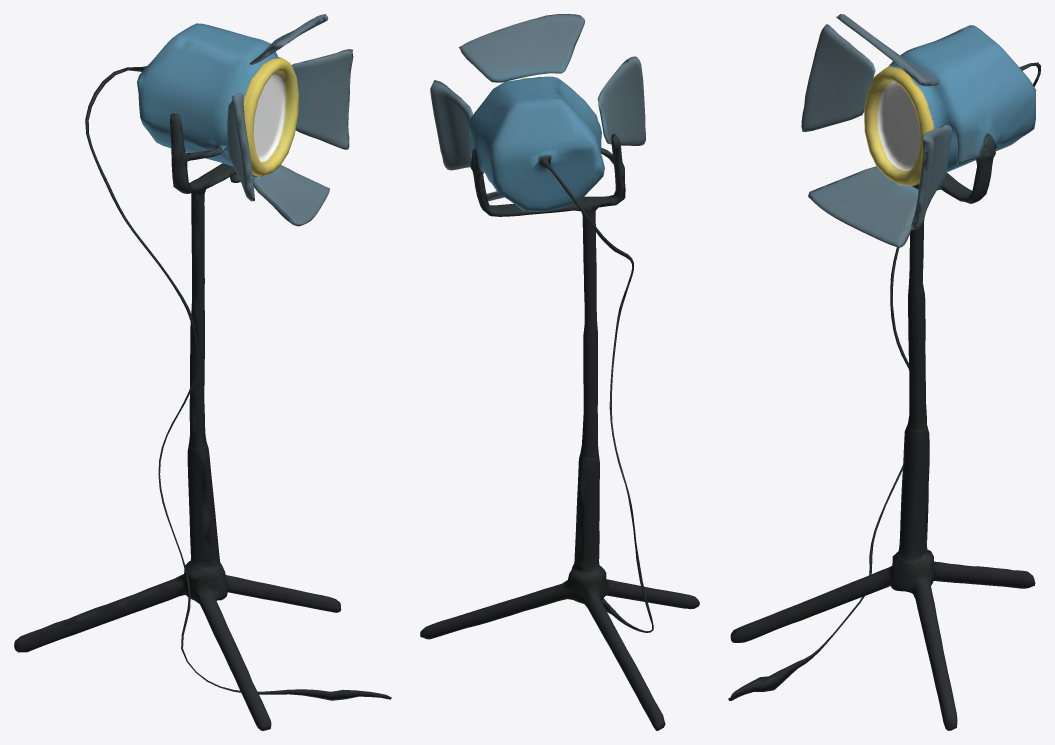
File: 07_light_medium_round.glb
The picture shows the model from 3 angles, left to right: view 1: azimuth 30°, elevation 25°; view 2: azimuth 150°, elevation 25°; view 3: azimuth 270°, elevation 25°; orthographic projection. The views are drawn at different scales.
Visible parts, largest first — view 1: 07_light_medium_round; view 2: 07_light_medium_round; view 3: 07_light_medium_round.
Part boxes in pixels (x1,y1,x2,y2): 07_light_medium_round: [14, 14, 391, 730]; 07_light_medium_round: [420, 14, 699, 730]; 07_light_medium_round: [728, 14, 1040, 730].
Size of the model in its own units: 0.8524 by 1.8 by 0.7655.
1 material, 1 textured.
